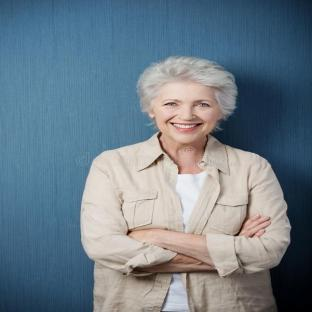Human: (80, 56, 291, 312)
